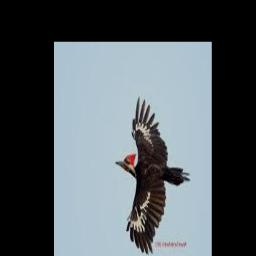Woodpecker: (116, 96, 191, 253)
